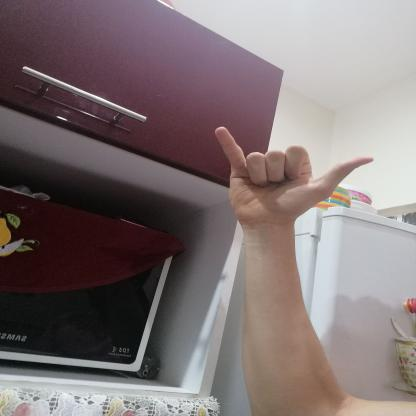YA: (200, 116, 385, 235)
